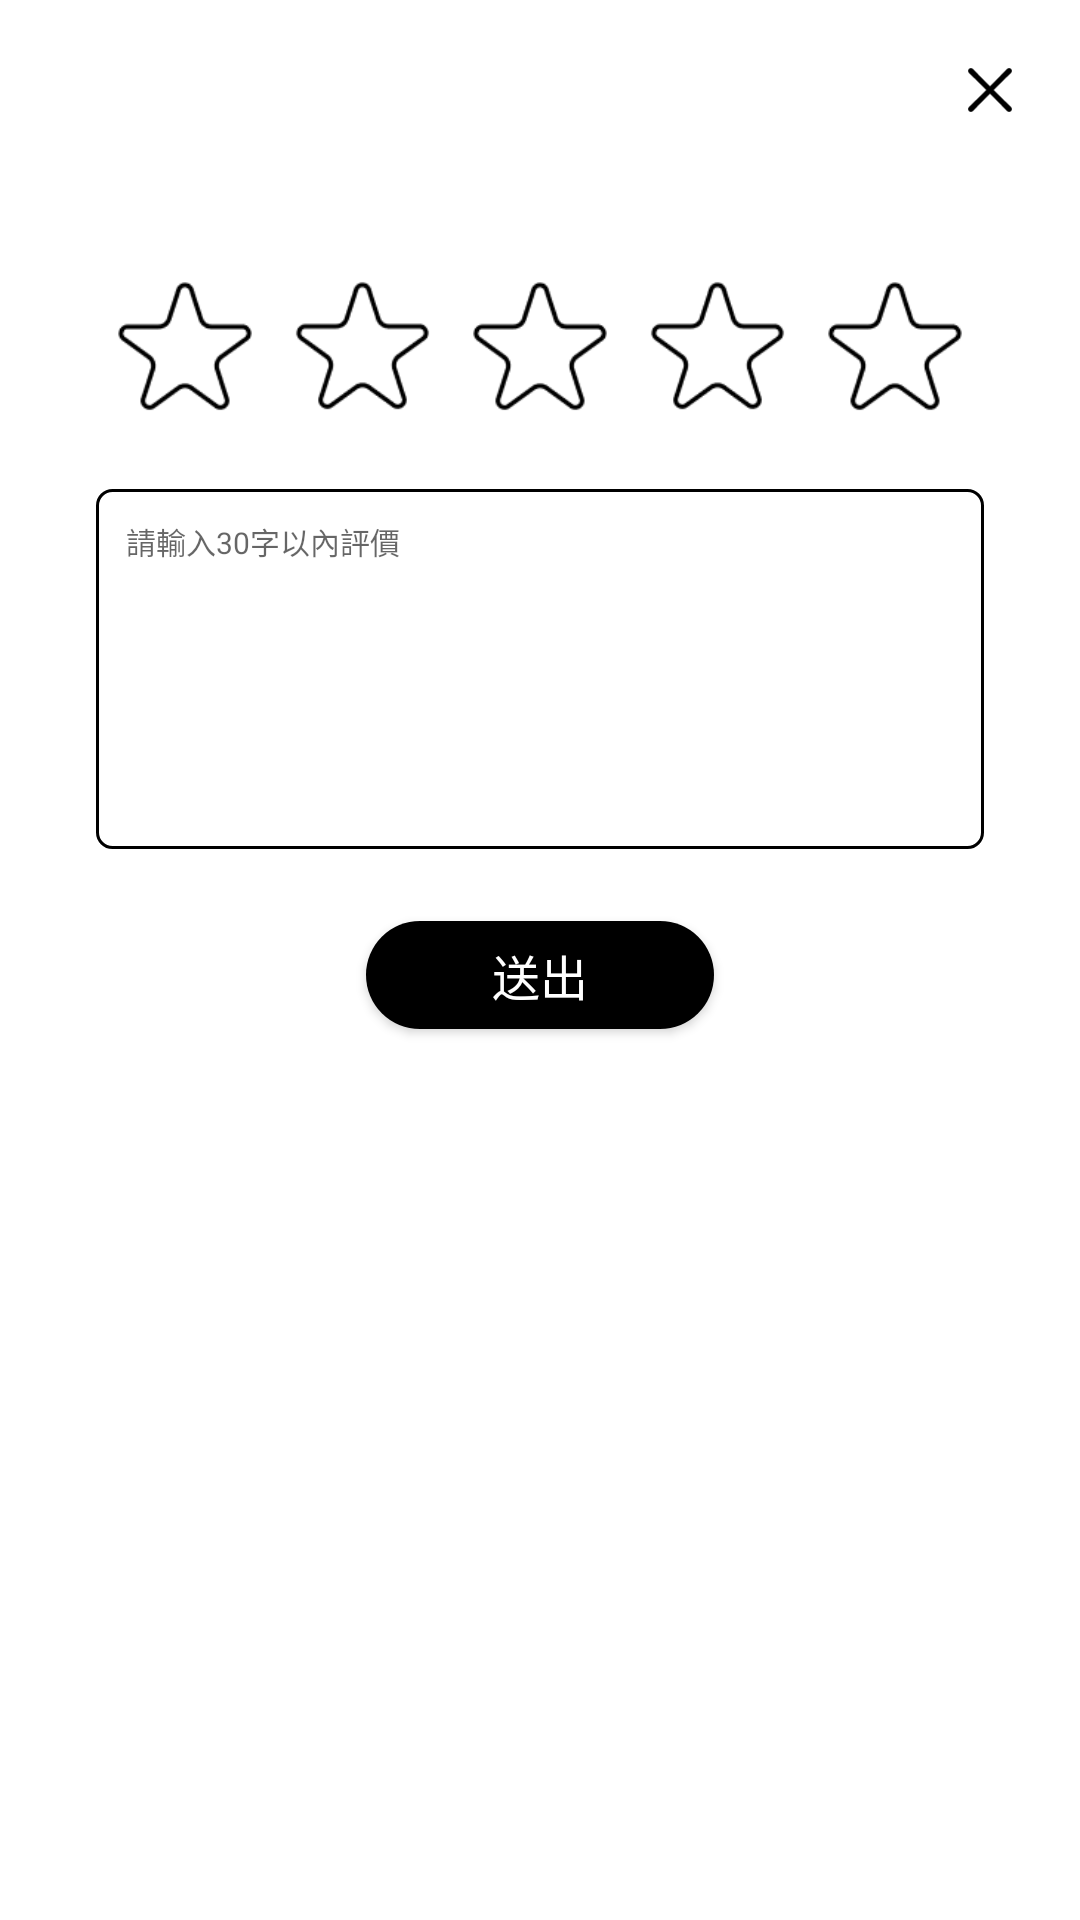

Locate icon controls on the screen. Image size 1080px×1920px, boxes as (x1, y1, x2, y2).
cancel: (968, 68, 1012, 112)
score: (118, 282, 252, 410), (296, 282, 429, 410), (473, 282, 607, 410), (651, 282, 784, 410), (828, 282, 962, 410)
